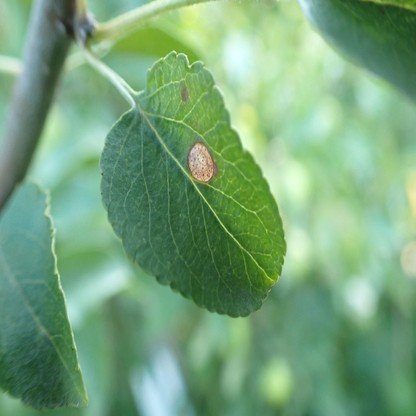frogeye_leaf_spot: (187, 144, 217, 181), (180, 84, 189, 102)
